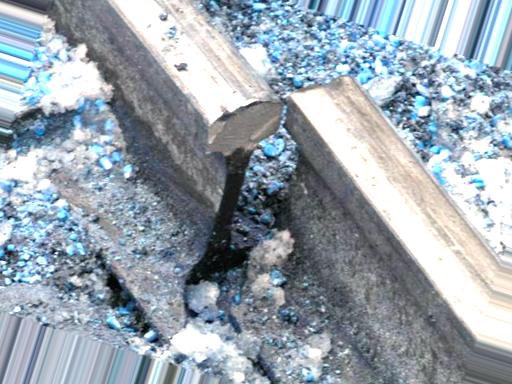tracks_fault: (147, 35, 390, 355)
